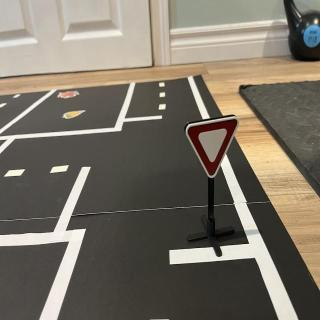sign_yield: (186, 117, 240, 180)
